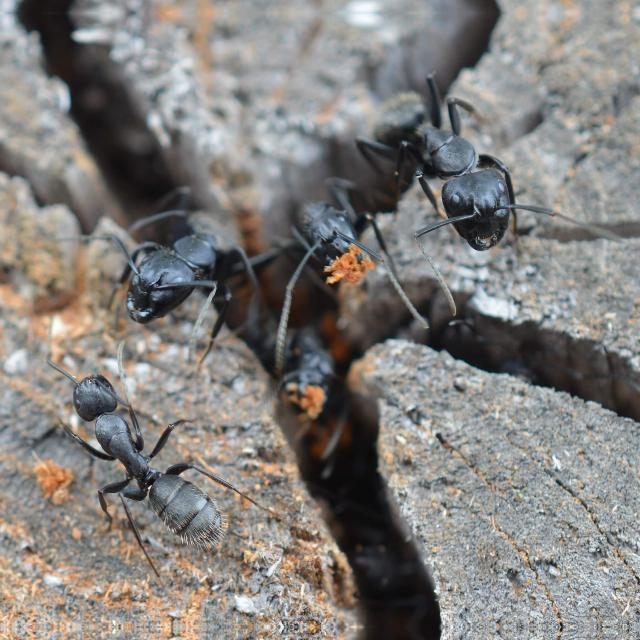Camponotus: (348, 55, 564, 247), (42, 352, 230, 570), (75, 172, 253, 352), (264, 151, 386, 317), (232, 287, 346, 441)
